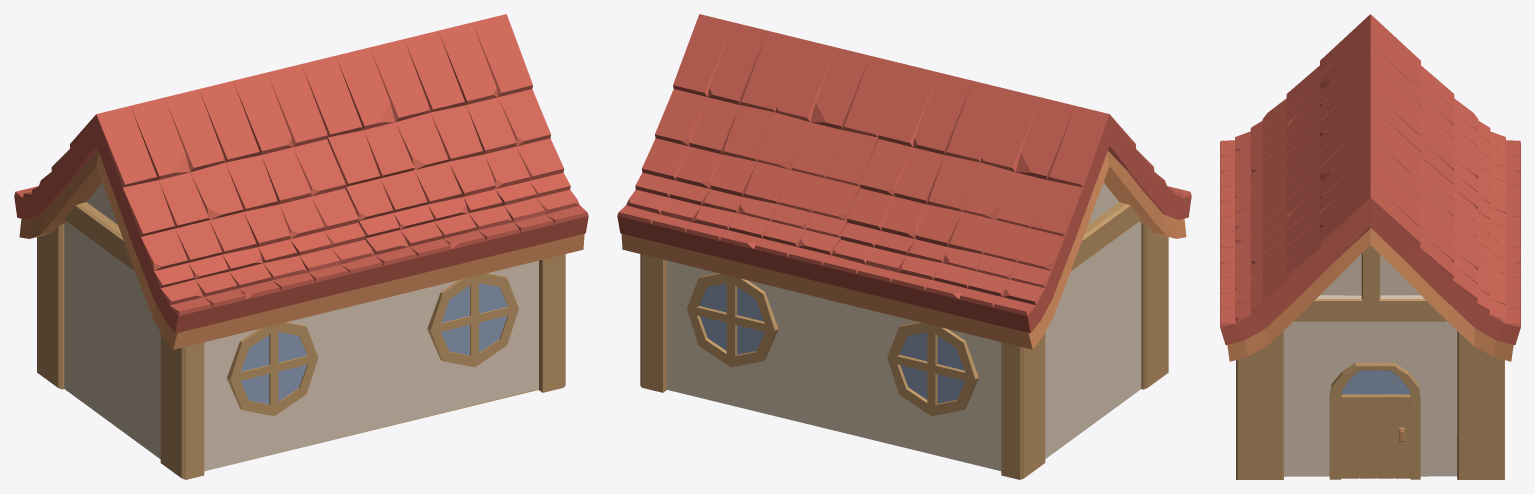
Rendered from house.fbx.
3 views of the same model, side by side, from view 1: azimuth 30°, elevation 25°; view 2: azimuth 150°, elevation 25°; view 3: azimuth 270°, elevation 25° (orthographic). The views are drawn at different scales.
Parts seen in each view (by area): view 1: Cube.001, Cube.005; view 2: Cube.001, Cube.005; view 3: Cube.001, Cube.005, Cube.002.
Boxes of the visible parts, bbox=[...] form: Cube.001: bbox=[14, 14, 588, 349]; Cube.005: bbox=[37, 182, 565, 479]; Cube.001: bbox=[617, 14, 1191, 349]; Cube.005: bbox=[640, 182, 1168, 479]; Cube.001: bbox=[1220, 14, 1520, 361]; Cube.005: bbox=[1236, 245, 1504, 479]; Cube.002: bbox=[1329, 362, 1420, 479].
Bounding box in the file's own units: 899 × 663 × 623.
